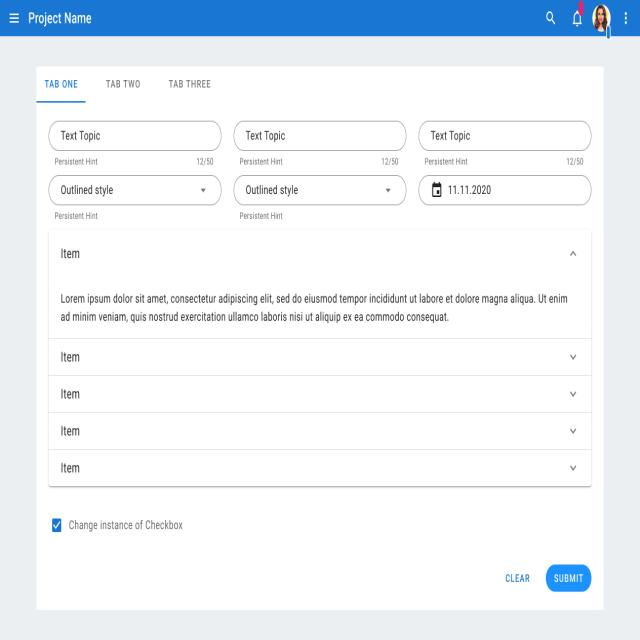QLabel: (26, 11, 93, 26), (166, 78, 212, 91), (104, 78, 142, 90), (44, 78, 78, 91), (552, 572, 584, 582), (504, 572, 530, 584)
VAppBar: (0, 0, 640, 39)
VBadge: (592, 4, 612, 34), (572, 1, 584, 27)
VBtn: (491, 564, 541, 592), (545, 564, 593, 593)
VCard: (35, 64, 606, 613)
VCheckbox: (49, 516, 184, 536)
VCombobox: (48, 172, 222, 220), (233, 174, 407, 222)
VExpansionPanels: (47, 227, 594, 490)
VIcon: (546, 11, 555, 26), (9, 13, 20, 24), (624, 12, 628, 26)
VInlineDatepicker: (419, 173, 592, 207)
VTab: (160, 72, 218, 103), (38, 72, 94, 104), (98, 72, 154, 103)
VTabs: (37, 68, 600, 105)
VTextField: (47, 119, 222, 167), (233, 120, 407, 168), (418, 120, 592, 168)
